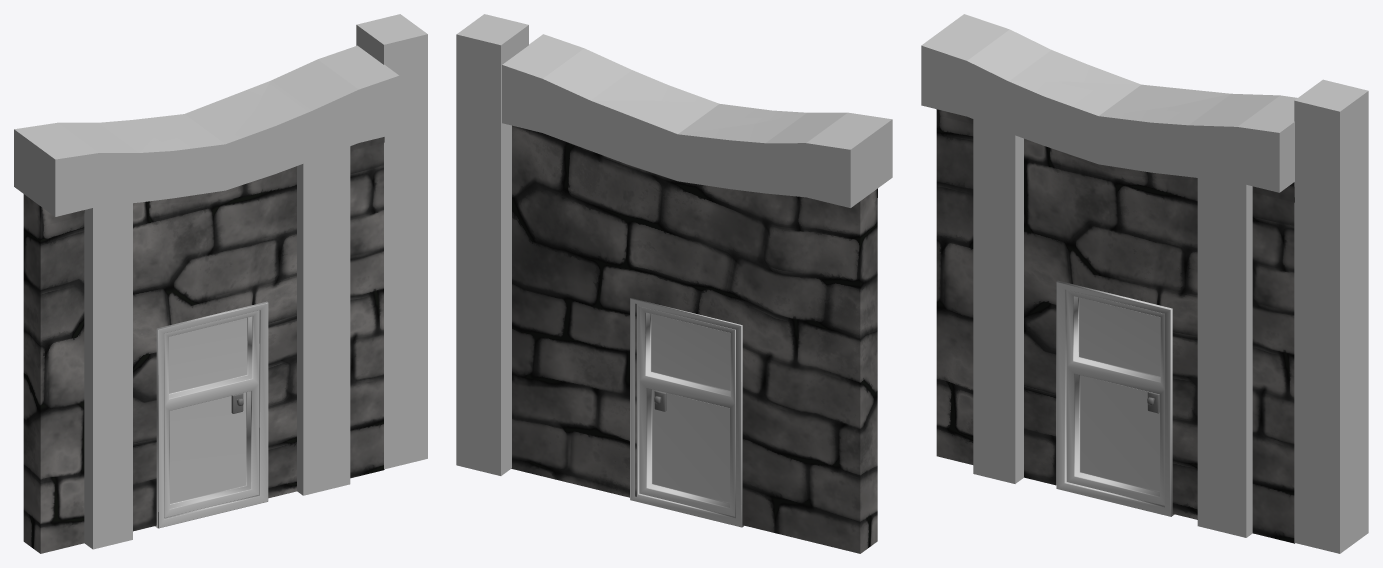
File: muur deur opening.fbx
3 renders of one model, left to right at view 1: azimuth 30°, elevation 25°; view 2: azimuth 150°, elevation 25°; view 3: azimuth 330°, elevation 25°, orthographic. The views are drawn at different scales.
Parts seen in each view (by area): view 1: muur3, kleine_deur1, deur_frame; view 2: muur3, kleine_deur1, deur_frame; view 3: muur3, kleine_deur1, deur_frame.
Boxes of the visible parts, x1=… form: muur3: x1=14, y1=14, x2=427, y2=553; kleine_deur1: x1=164, y1=310, x2=259, y2=517; deur_frame: x1=155, y1=301, x2=268, y2=528; muur3: x1=456, y1=14, x2=892, y2=553; kleine_deur1: x1=639, y1=306, x2=735, y2=516; deur_frame: x1=630, y1=298, x2=744, y2=527; muur3: x1=921, y1=14, x2=1368, y2=553; kleine_deur1: x1=1066, y1=290, x2=1164, y2=505; deur_frame: x1=1056, y1=280, x2=1174, y2=516.
Size of the model in its own units: 200 by 211 by 37.85.
